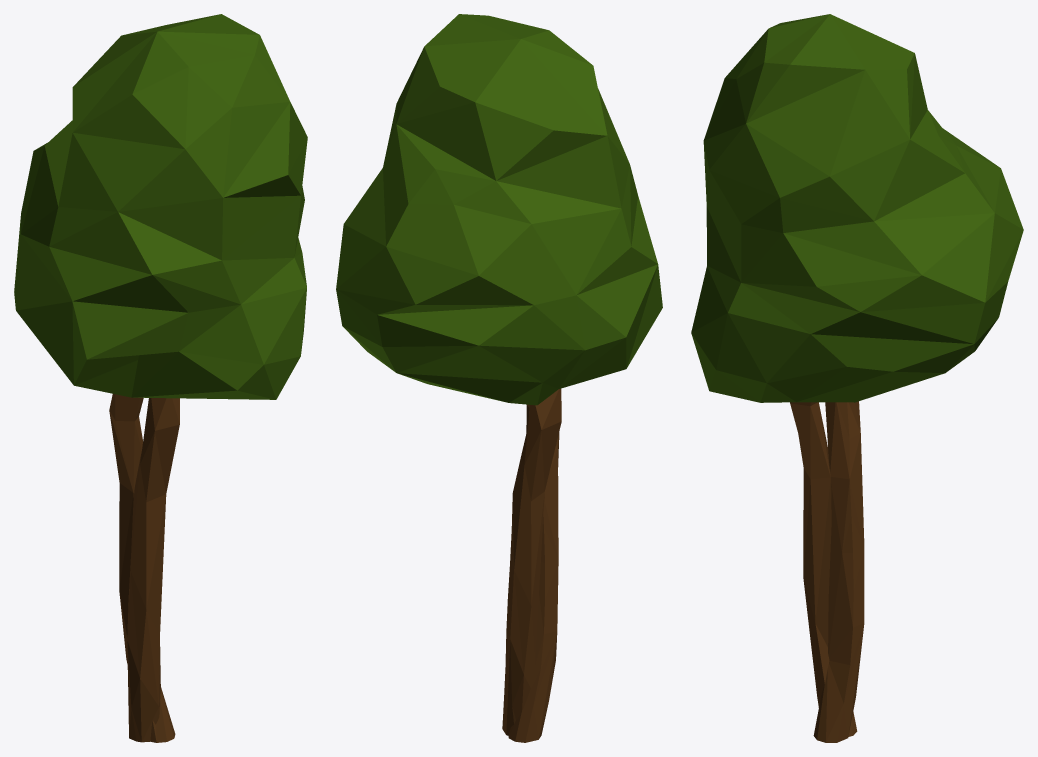
The model's file is tree-2.glb.
3 renders of one model, left to right at view 1: azimuth 30°, elevation 25°; view 2: azimuth 150°, elevation 25°; view 3: azimuth 270°, elevation 25°, orthographic. The views are drawn at different scales.
Parts seen in each view (by area): view 1: vegetation_05_vegetation_05_0; view 2: vegetation_05_vegetation_05_0; view 3: vegetation_05_vegetation_05_0.
Boxes of the visible parts, box(x1,y1,x2,y2) form: vegetation_05_vegetation_05_0: box(14, 14, 307, 742); vegetation_05_vegetation_05_0: box(336, 14, 662, 742); vegetation_05_vegetation_05_0: box(691, 14, 1023, 742).
Size of the model in its own units: 109 by 270 by 113.
1 material, 1 textured.
